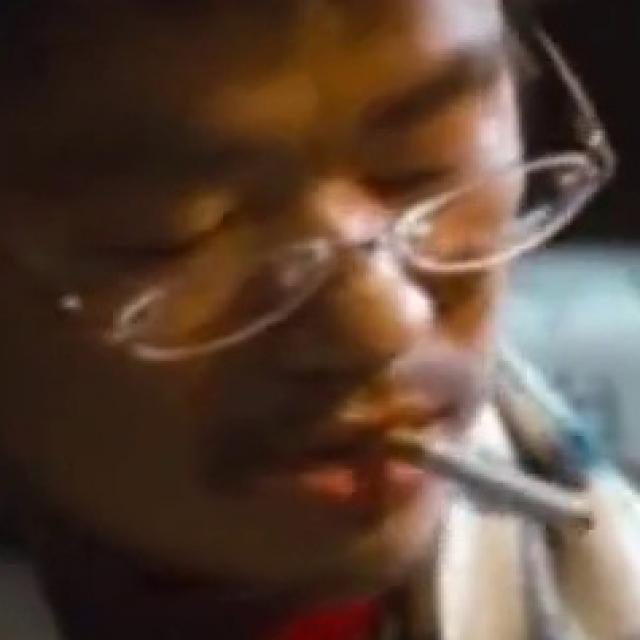smoking: (385, 426, 595, 532)
